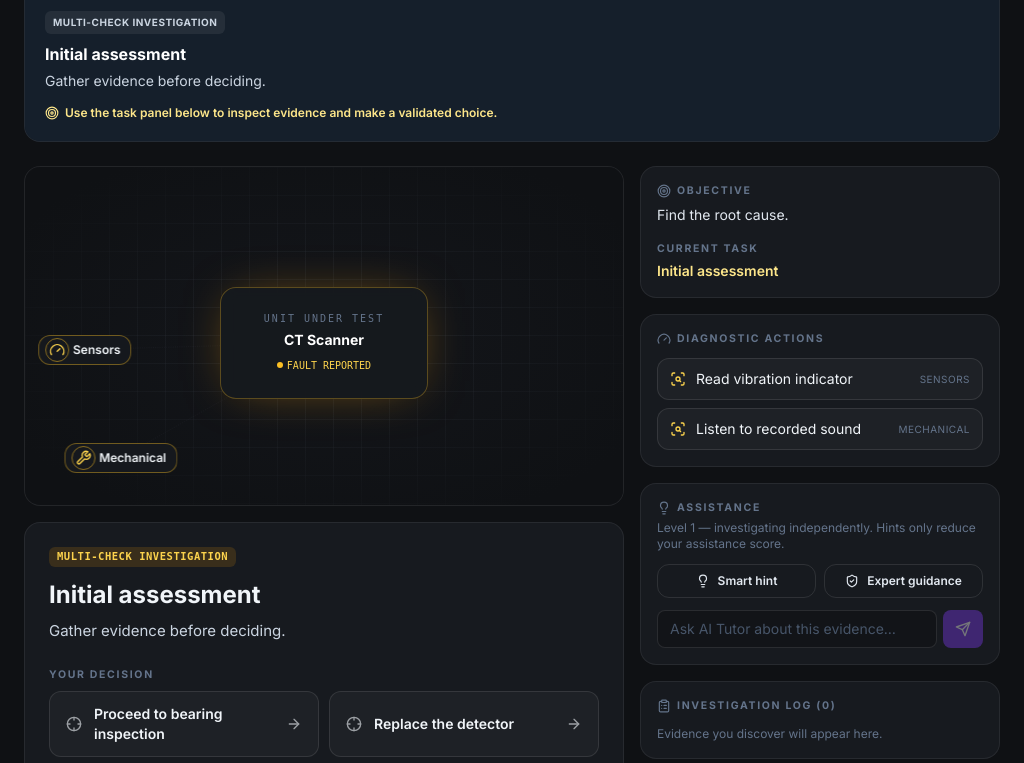
Test case: Mission player › runs diagnostic checks, shows discovered clues and wrong-decision feedback
(page scrolled)
Click the button "Read vibration indicator sensors" at (820, 379), box [657, 358, 983, 400]
(page scrolled)
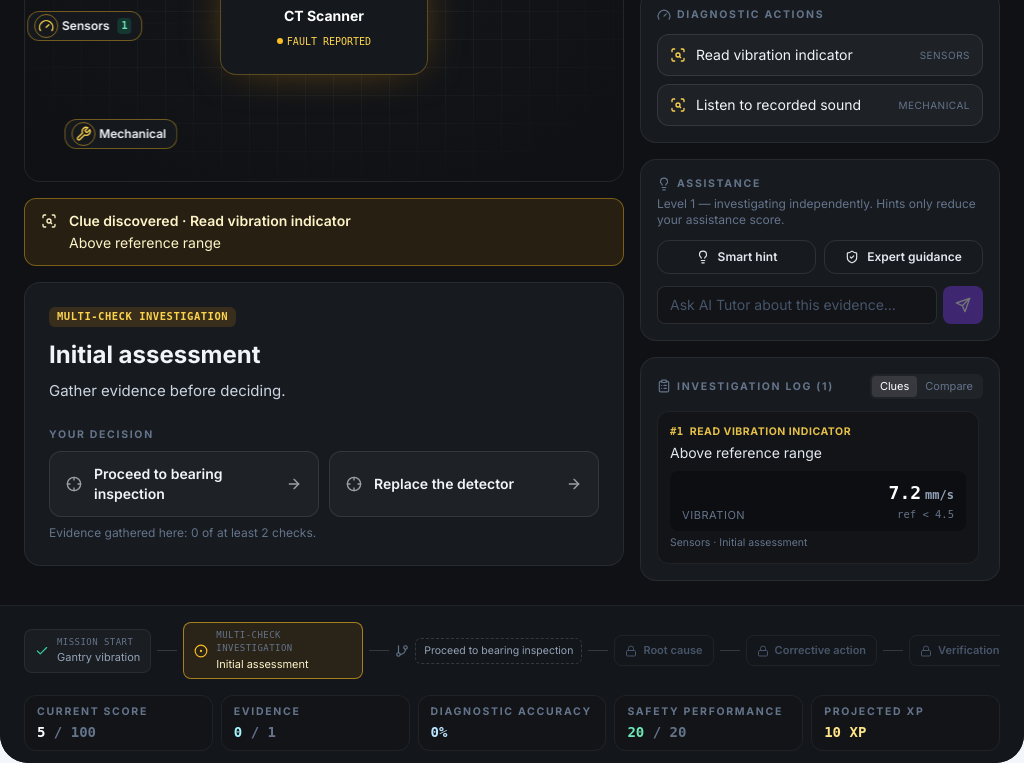
expect the text "Clue discovered · Read vibration indicator" is shown: met, box [69, 211, 351, 231]
expect the text "7.2" is shown: met, box [889, 482, 921, 503]
Click the button "Replace the detector" at (464, 484), box [329, 451, 599, 517]
(page scrolled)
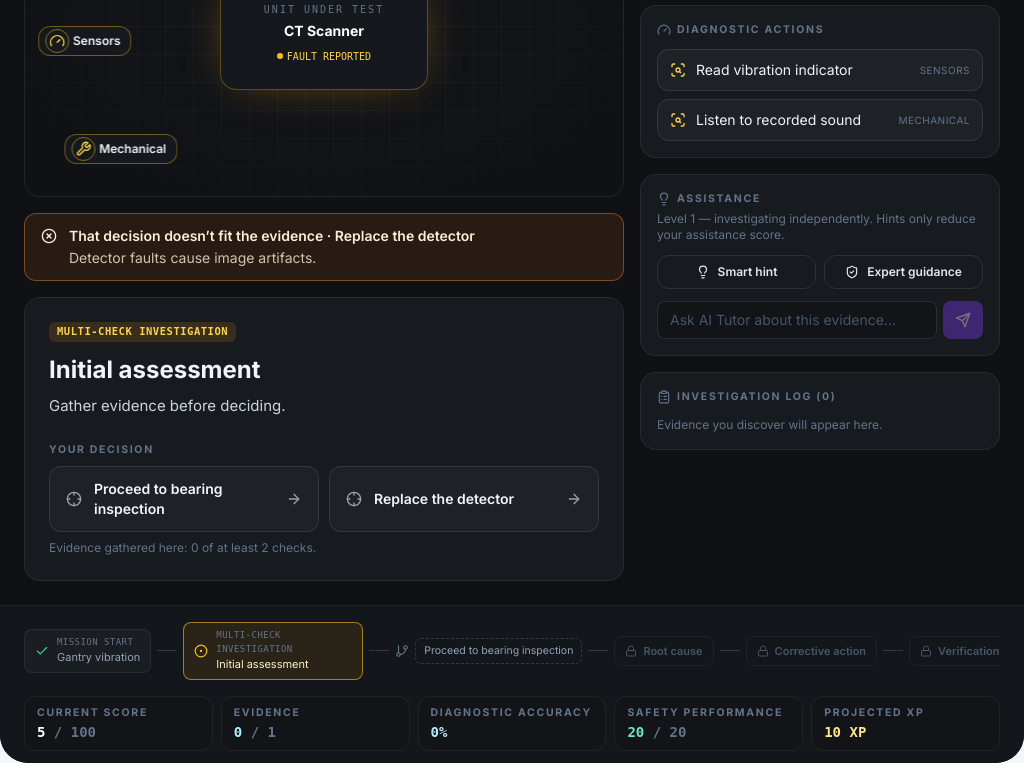
expect the text "Detector faults cause image artifacts." is shown: met, box [69, 249, 316, 266]
